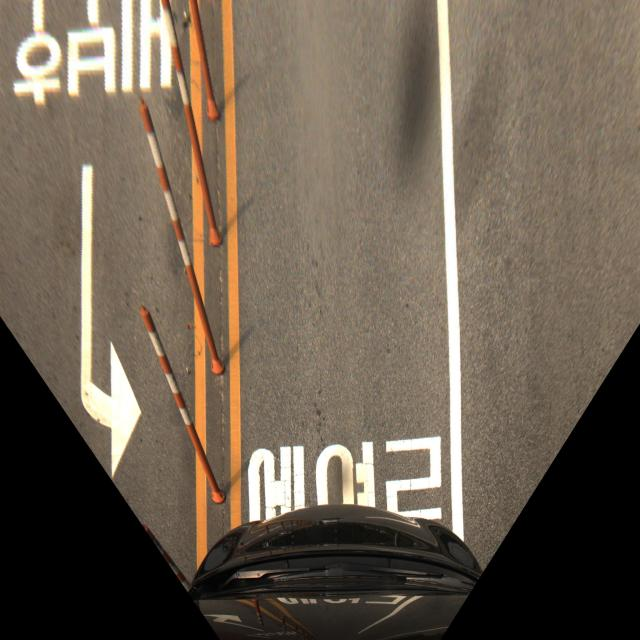left: (442, 152, 620, 487)
